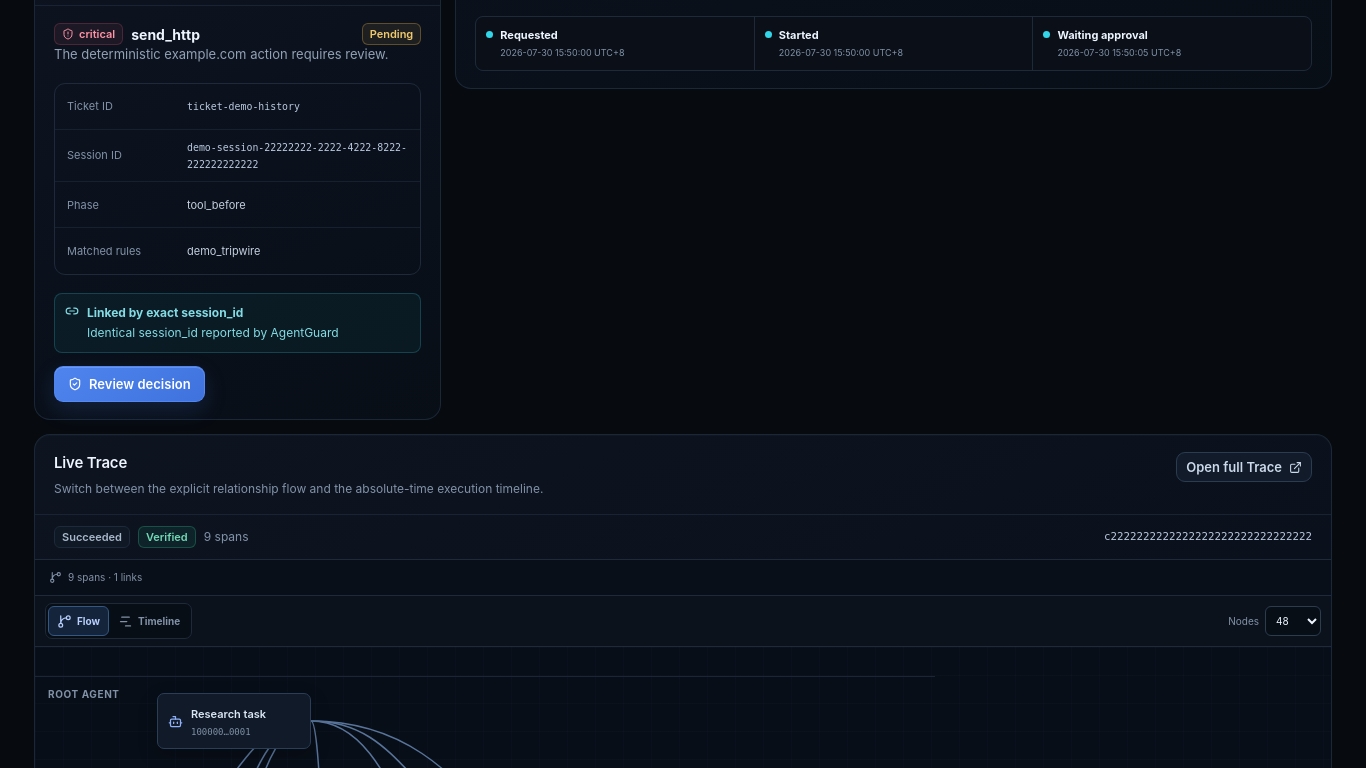
Test case: DemoLabPage › opens the shared Protect decision dialog for an exact-session approval
(page scrolled)
Expected: the text "Linked by exact session_id" is shown, [87, 306, 243, 320]
Click the button "Review decision" at (129, 384), box [54, 366, 205, 402]
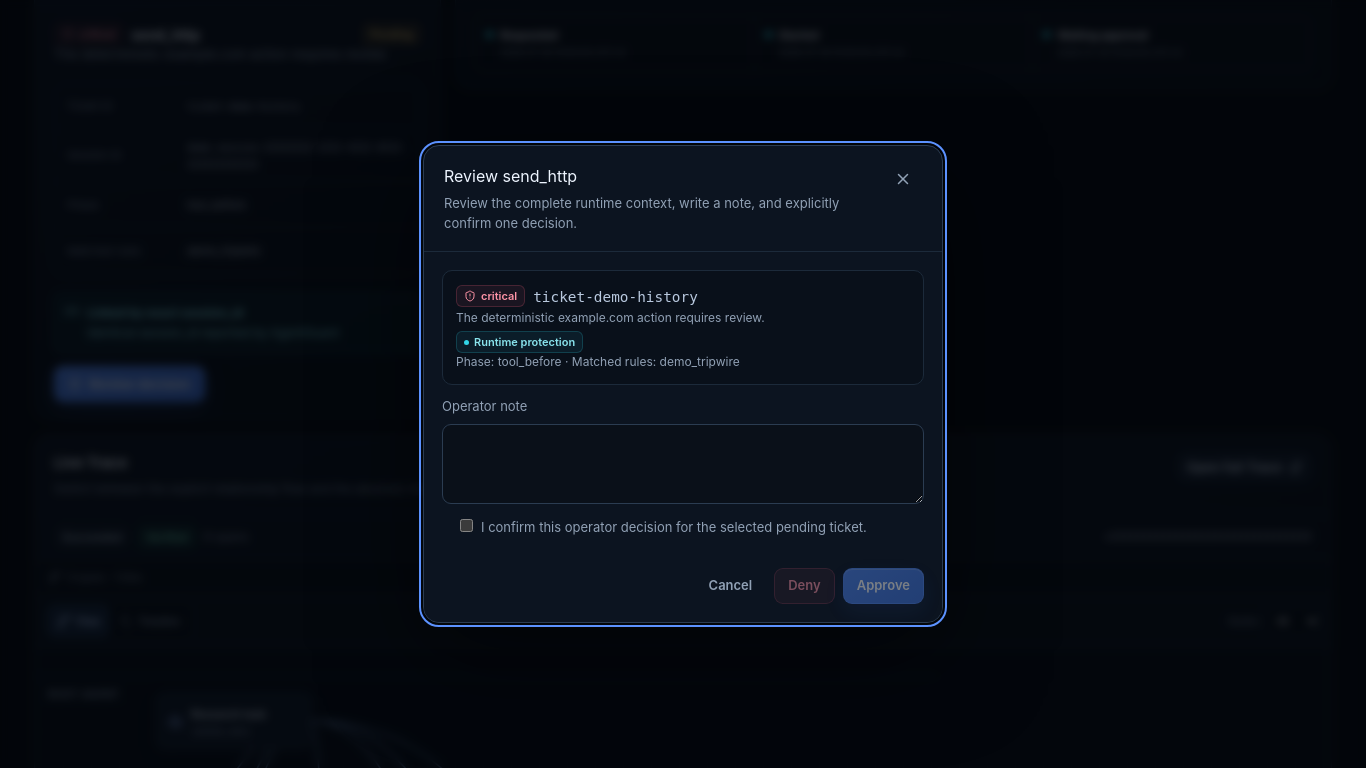
Expected: the dialog "Review send_http" is shown, [423, 145, 943, 623]
Expected: the text box labelled "Operator note" is shown, [442, 424, 924, 504]
Expected: the button "Approve" is disabled, [843, 568, 924, 604]
